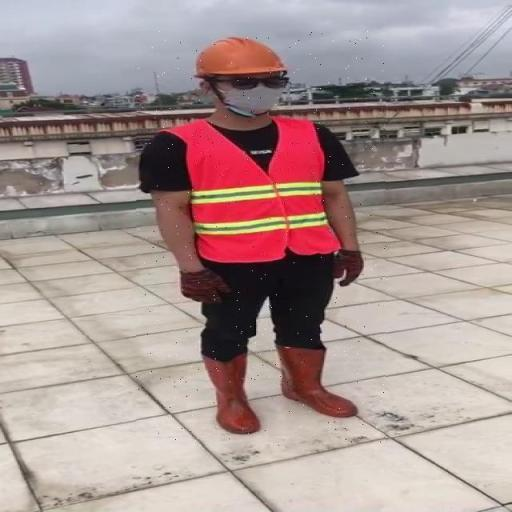Boots: (274, 344, 360, 419), (202, 353, 262, 434)
Helmet: (186, 35, 287, 80)
Person: (136, 32, 386, 446)
